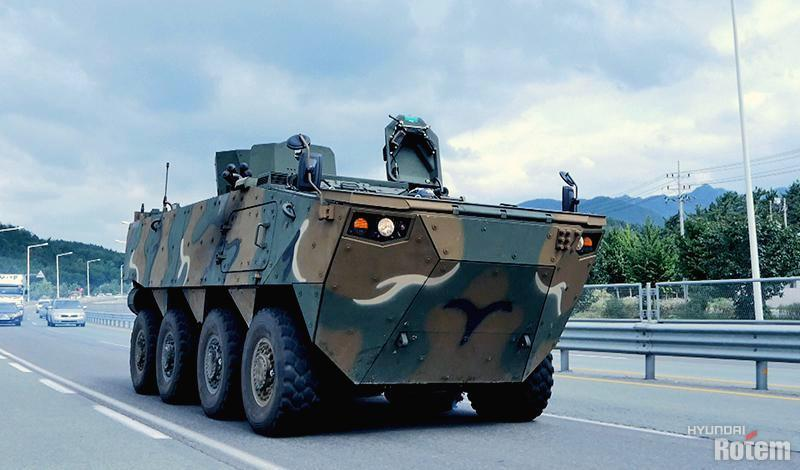MIL_IFV: (118, 110, 609, 433)
